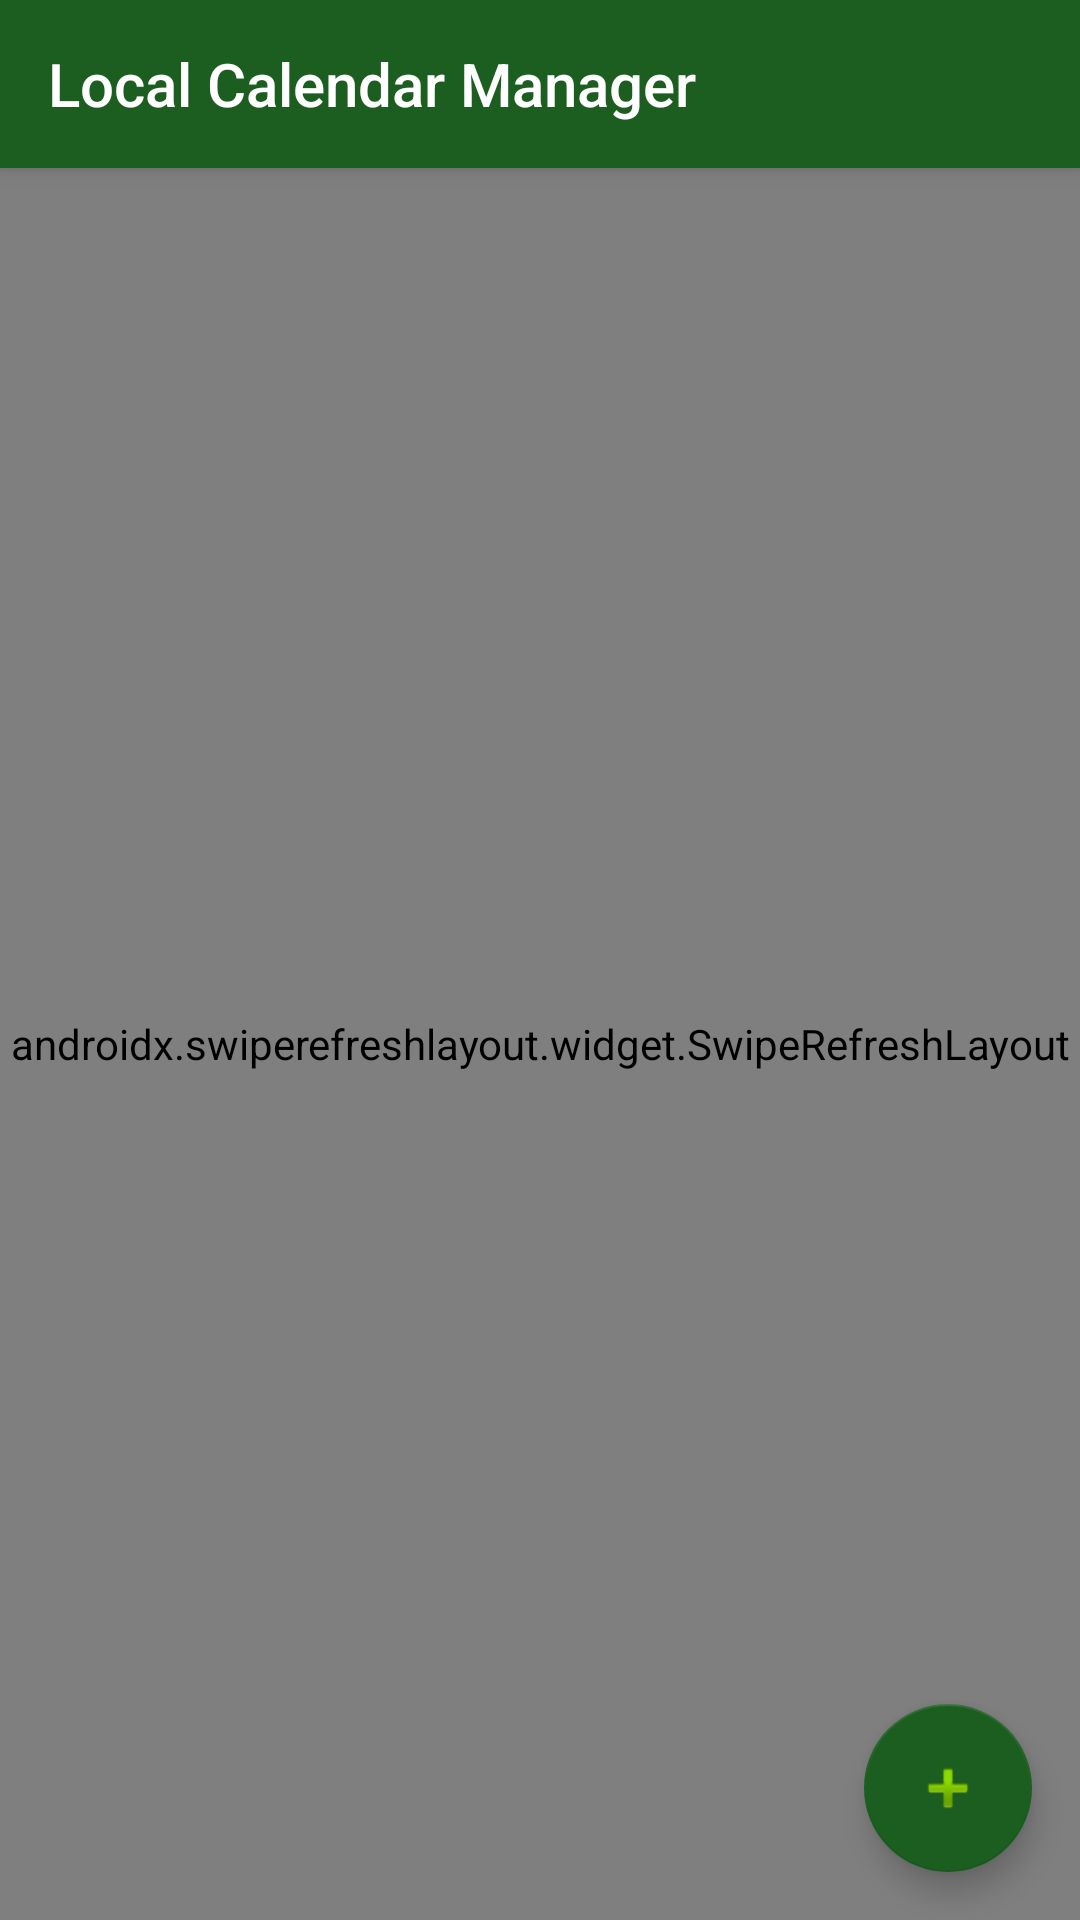

Where icons sit on this 1080w x 1920h app screen, as (x1, y1, x2, y2):
add: (864, 1704, 1032, 1872)
